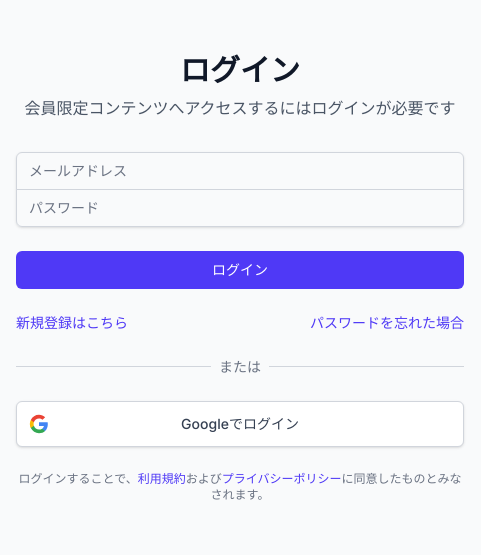
Test: LoginPage › 未認証状態 › メール/パスワード認証 › 不正な情報でログインに失敗し、エラーメッセージが表示される
This screenshot has width=481, height=555.
Type "wrong@example.com" into the field with placeholder "メールアドレス" at (240, 170), box [16,152,464,190]
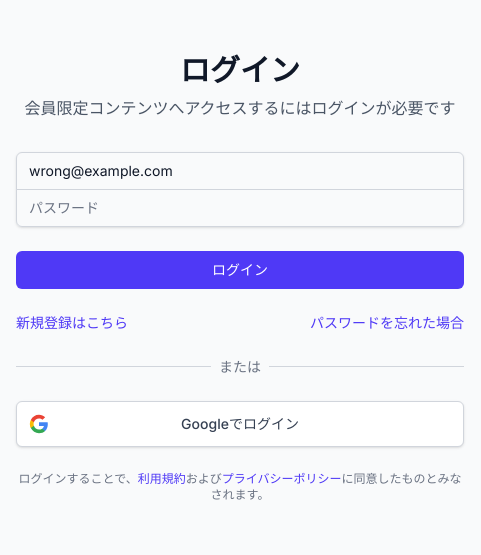
Type "wrongpassword" into the password field with placeholder "パスワード" at (240, 208), box [16,188,464,226]
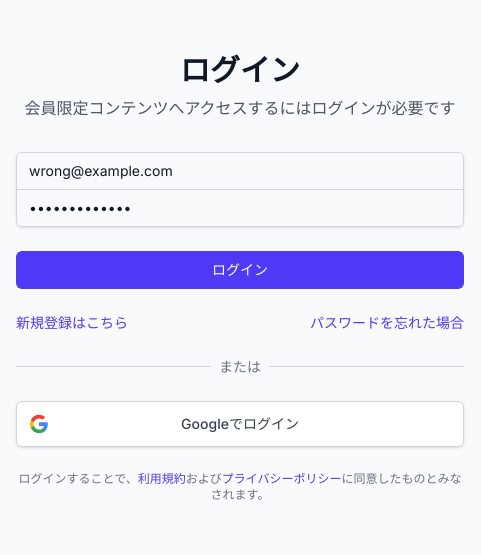
Click the button "ログイン" at (240, 270), box [16,250,464,288]
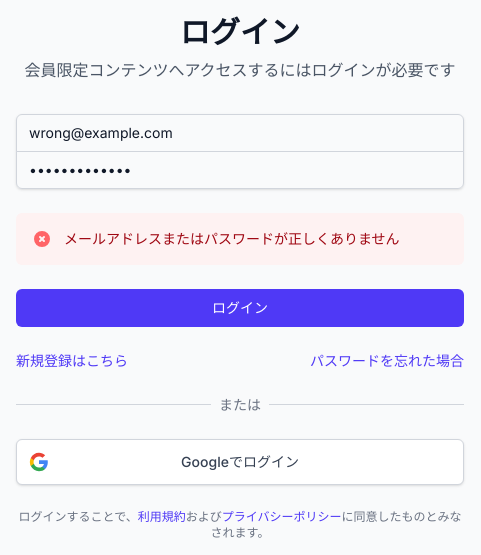
Check: the text "メールアドレスまたはパスワードが正しくありません" is shown, box [64,228,400,248]
